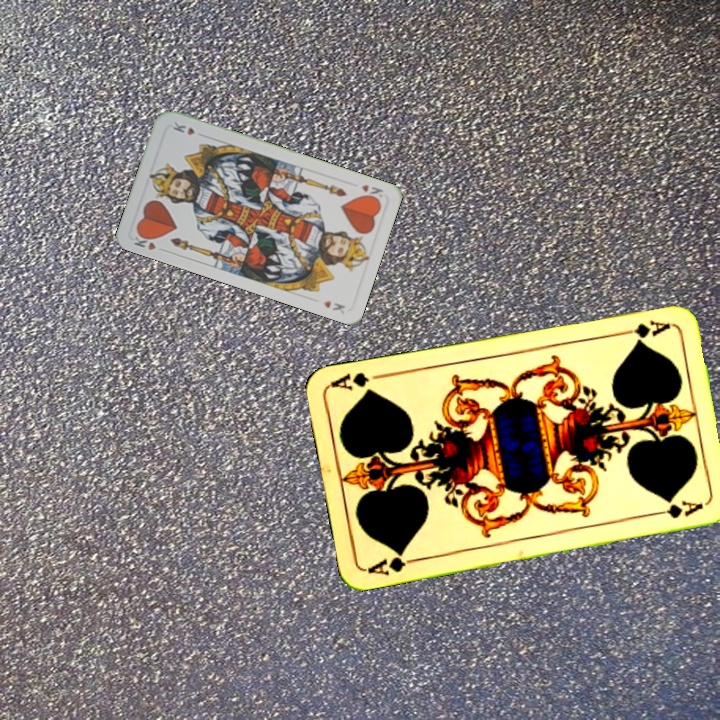GA: (363, 547, 422, 578), (614, 316, 674, 342)
HK: (130, 229, 169, 254), (357, 180, 386, 204)
